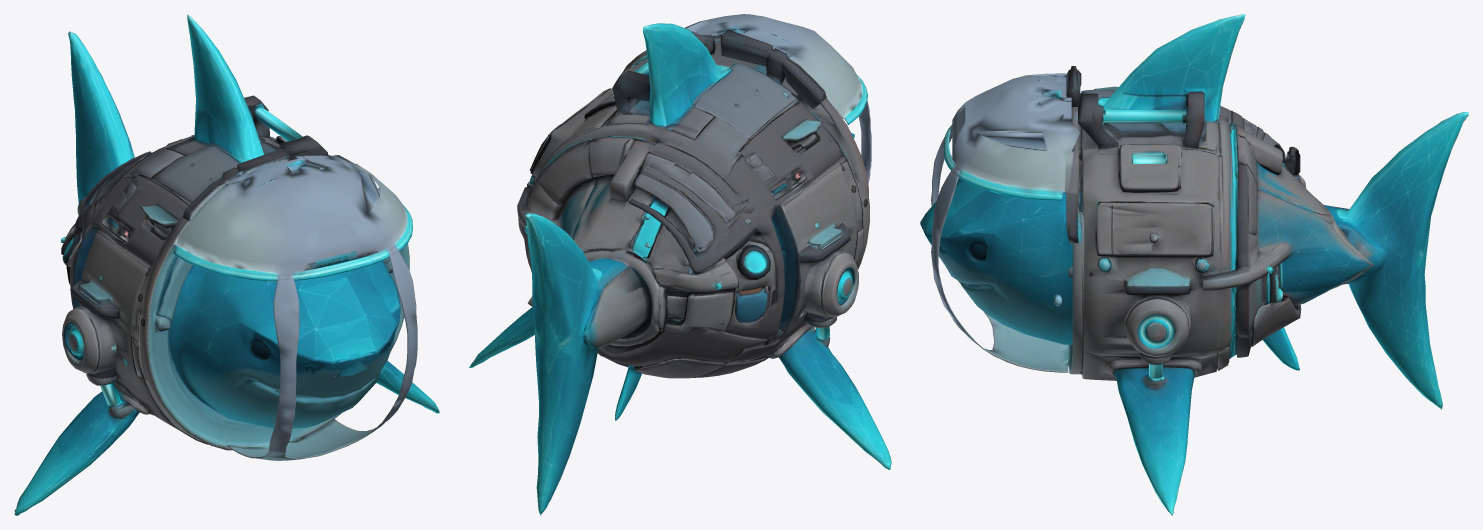
The model's file is ghost_shark_air_mount.glb.
The picture shows the model from 3 angles, left to right: view 1: azimuth 30°, elevation 25°; view 2: azimuth 150°, elevation 25°; view 3: azimuth 270°, elevation 25°; orthographic projection. The views are drawn at different scales.
Visible parts, largest first — view 1: tripo_node_32e26d43-4aef-4467-9415-bec32793c78a; view 2: tripo_node_32e26d43-4aef-4467-9415-bec32793c78a; view 3: tripo_node_32e26d43-4aef-4467-9415-bec32793c78a.
Boxes of the visible parts, x1,y1,x2,y2 form: tripo_node_32e26d43-4aef-4467-9415-bec32793c78a: (14,14,439,515); tripo_node_32e26d43-4aef-4467-9415-bec32793c78a: (469,14,891,515); tripo_node_32e26d43-4aef-4467-9415-bec32793c78a: (920,14,1468,515).
Size of the model in its own units: 0.8347 by 0.7944 by 0.9806.
1 material, 1 textured.
